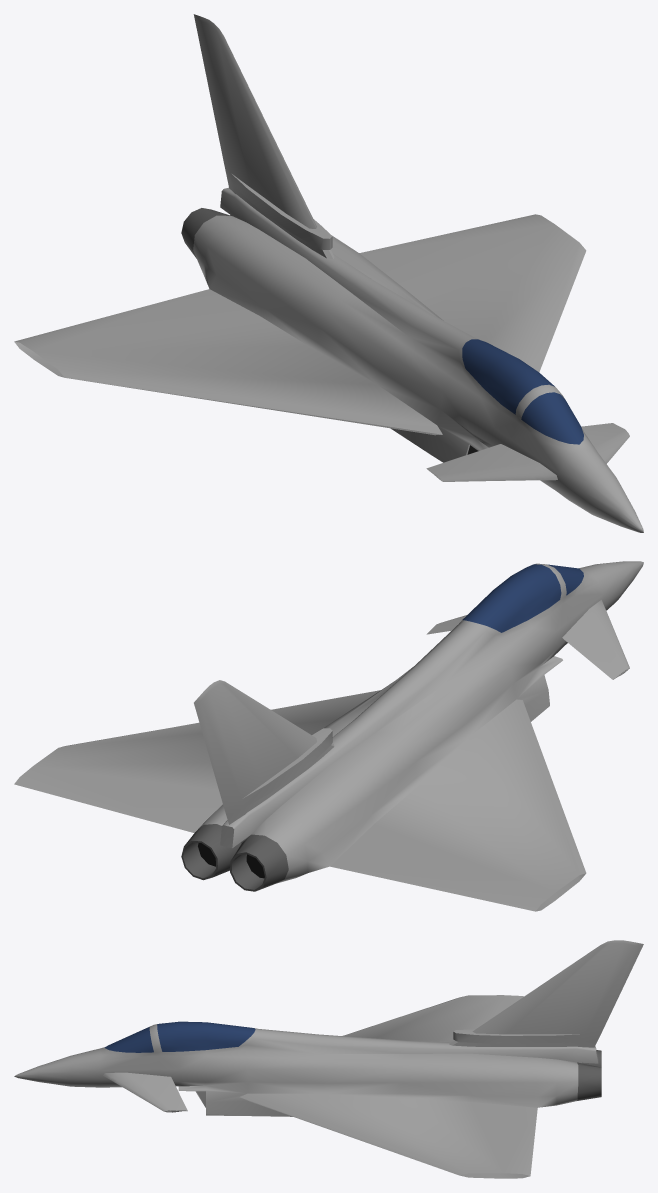
Rendered from EUROFIGHTER.glb.
3 views of the same model, one above another, from view 1: azimuth 30°, elevation 25°; view 2: azimuth 150°, elevation 25°; view 3: azimuth 270°, elevation 25° (orthographic). The views are drawn at different scales.
Parts seen in each view (by area): view 1: eurofighter; view 2: eurofighter; view 3: eurofighter.
Boxes of the visible parts, x1,y1,x2,y2 form: eurofighter: (14,14,643,532); eurofighter: (14,561,643,911); eurofighter: (14,940,643,1178).
Size of the model in its own units: 10.63 by 4.63 by 15.9.
